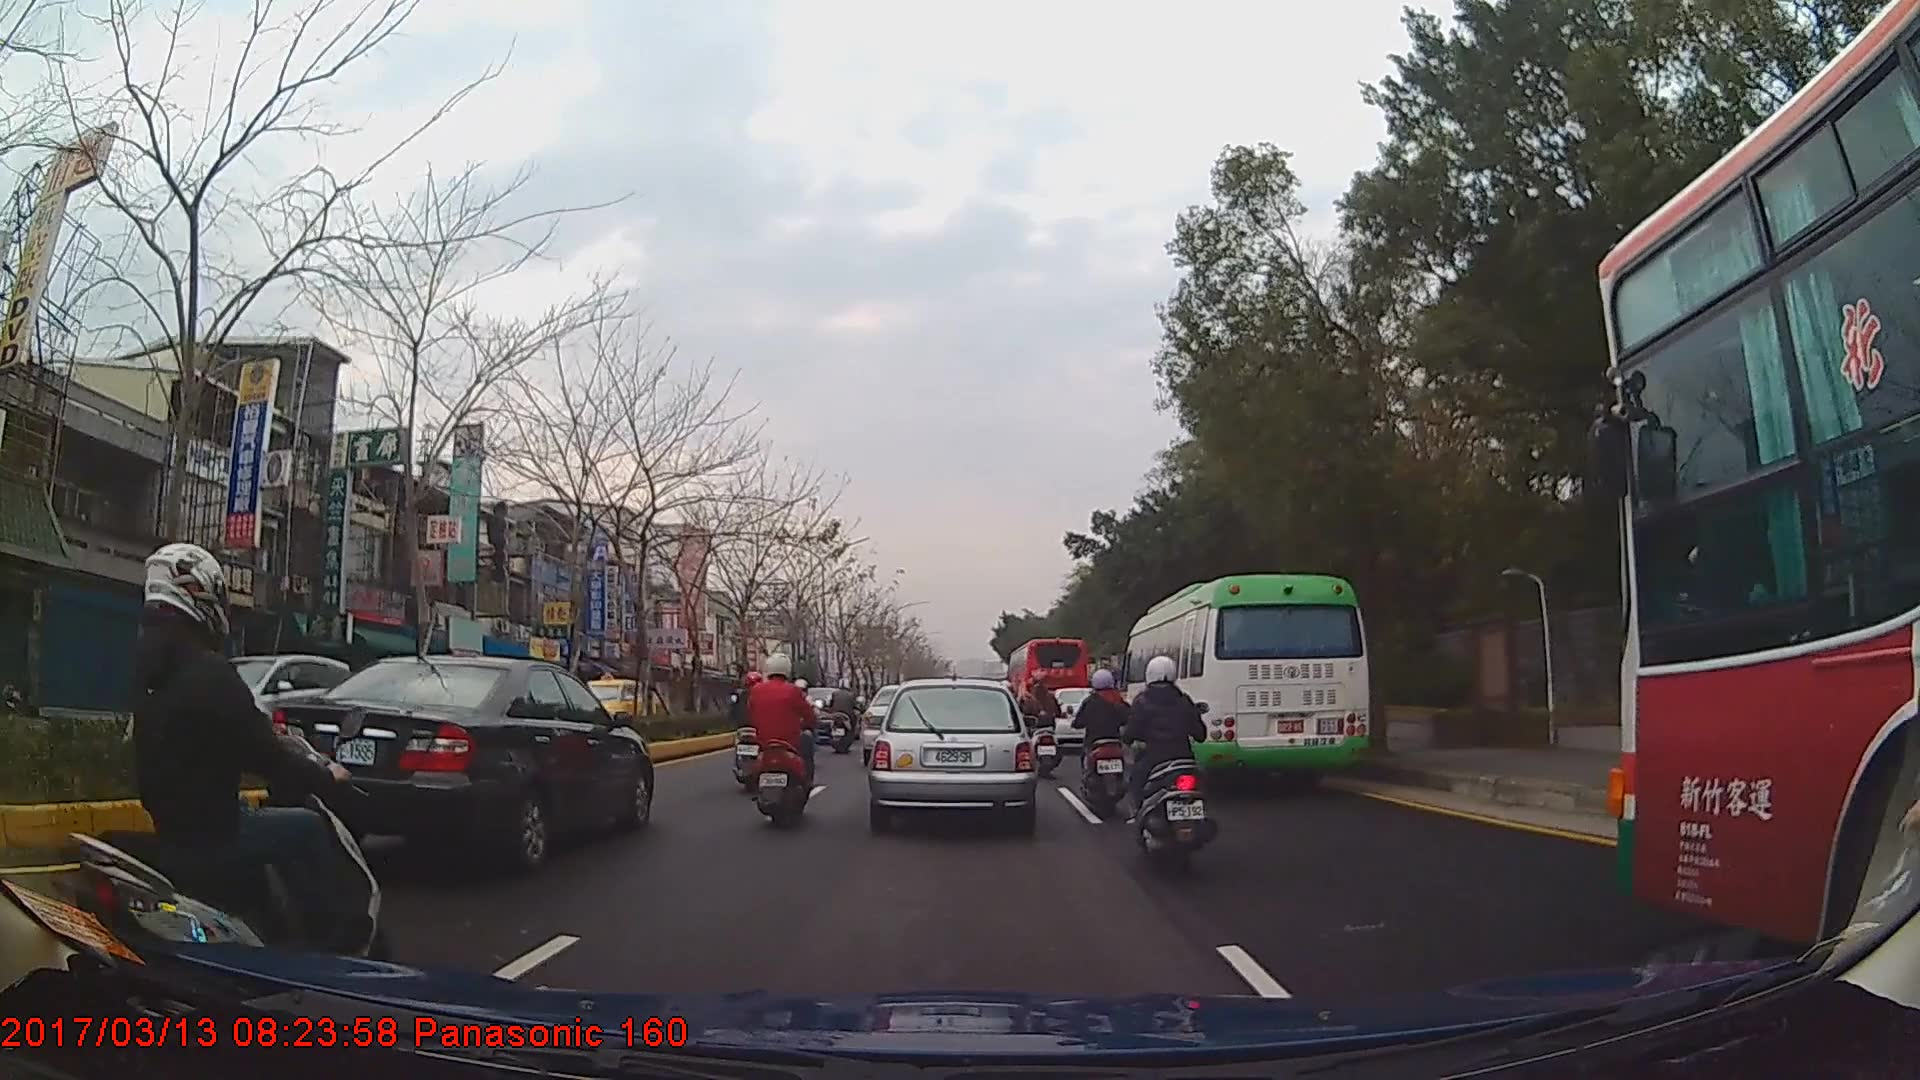rider: (72, 538, 380, 1004), (1129, 653, 1221, 877), (746, 648, 815, 830), (1070, 666, 1137, 817), (1023, 670, 1065, 780), (831, 678, 866, 754)
vehicle: (1600, 0, 1919, 972), (264, 654, 653, 870), (1118, 572, 1375, 790), (868, 677, 1035, 827), (166, 649, 358, 754), (1008, 634, 1092, 730), (555, 667, 663, 735)
